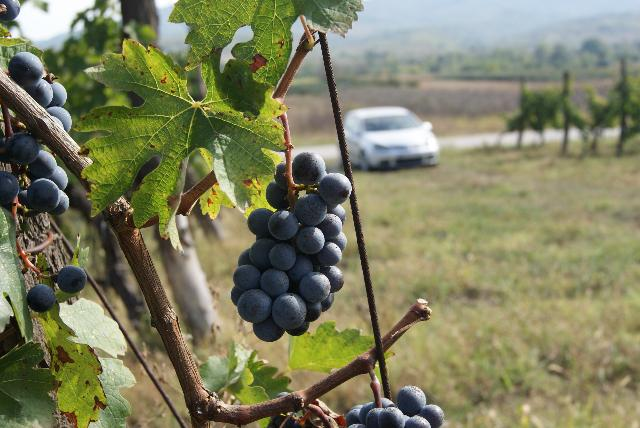grapes: (231, 151, 352, 342), (345, 386, 444, 428)
